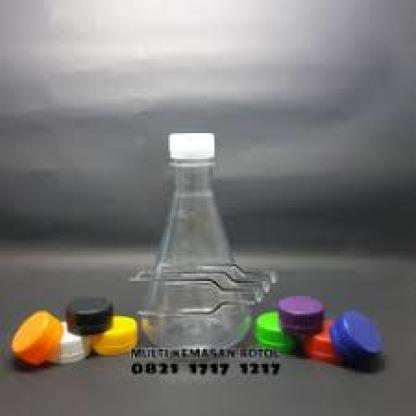Glass Bottle: (140, 128, 248, 367)
